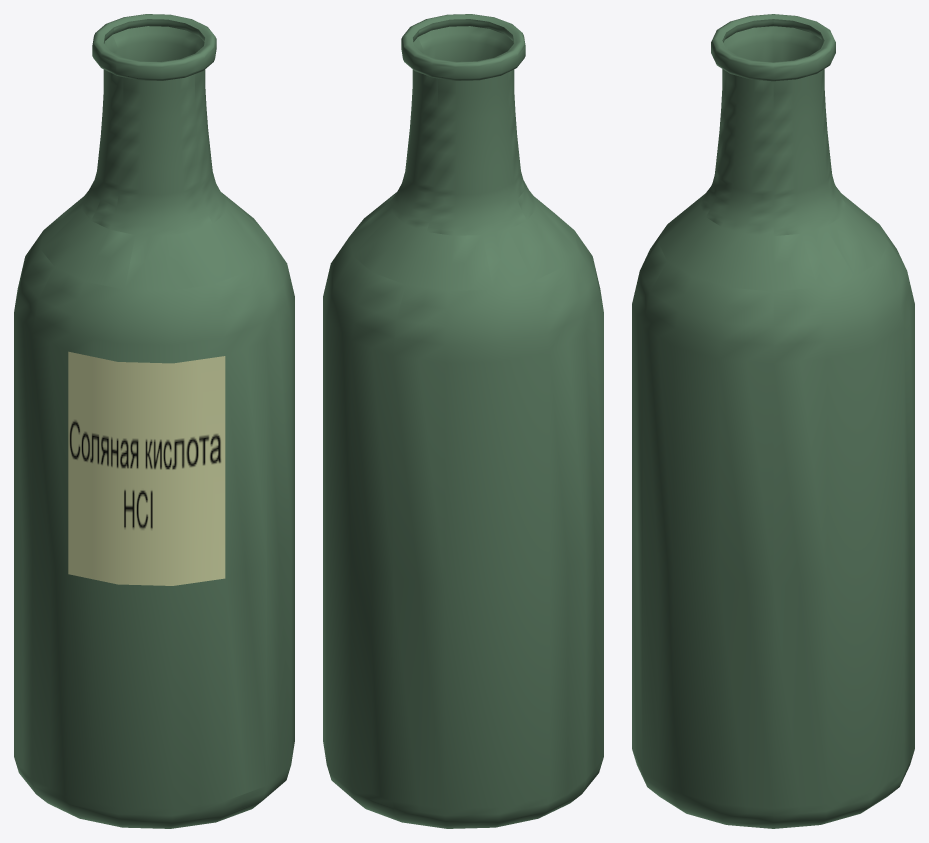
The model's file is hci.glb.
3 renders of one model, left to right at view 1: azimuth 30°, elevation 25°; view 2: azimuth 150°, elevation 25°; view 3: azimuth 270°, elevation 25°, orthographic.
Parts seen in each view (by area): view 1: Object_2.022_None.002_0; view 2: Object_2.022_None.002_0; view 3: Object_2.022_None.002_0.
Part boxes in pixels (x1=…): Object_2.022_None.002_0: x1=14, y1=14, x2=294, y2=828; Object_2.022_None.002_0: x1=323, y1=14, x2=603, y2=828; Object_2.022_None.002_0: x1=632, y1=14, x2=914, y2=828.
Size of the model in its own units: 1.69 by 4.9 by 1.69.
Materials: 2 (1 with a texture image).
